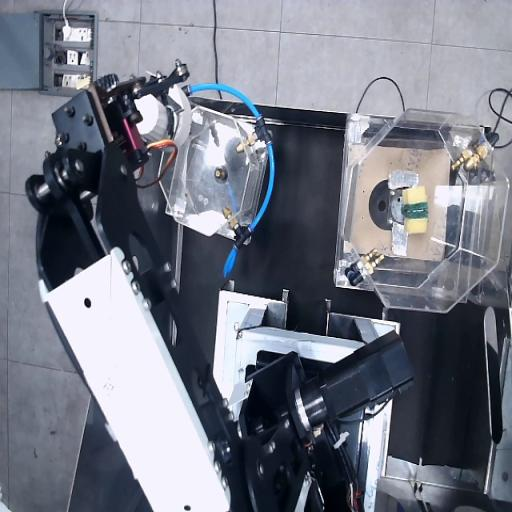cup in rinse station: (134, 86, 190, 146)
